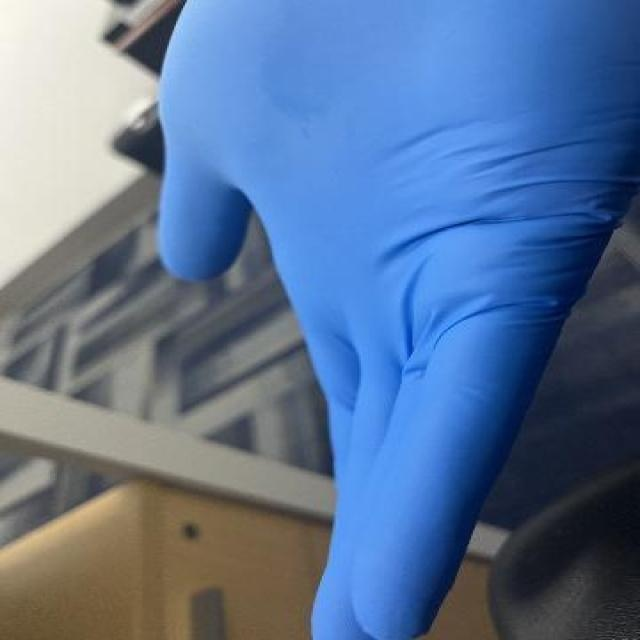Guantes: (152, 0, 638, 639)
